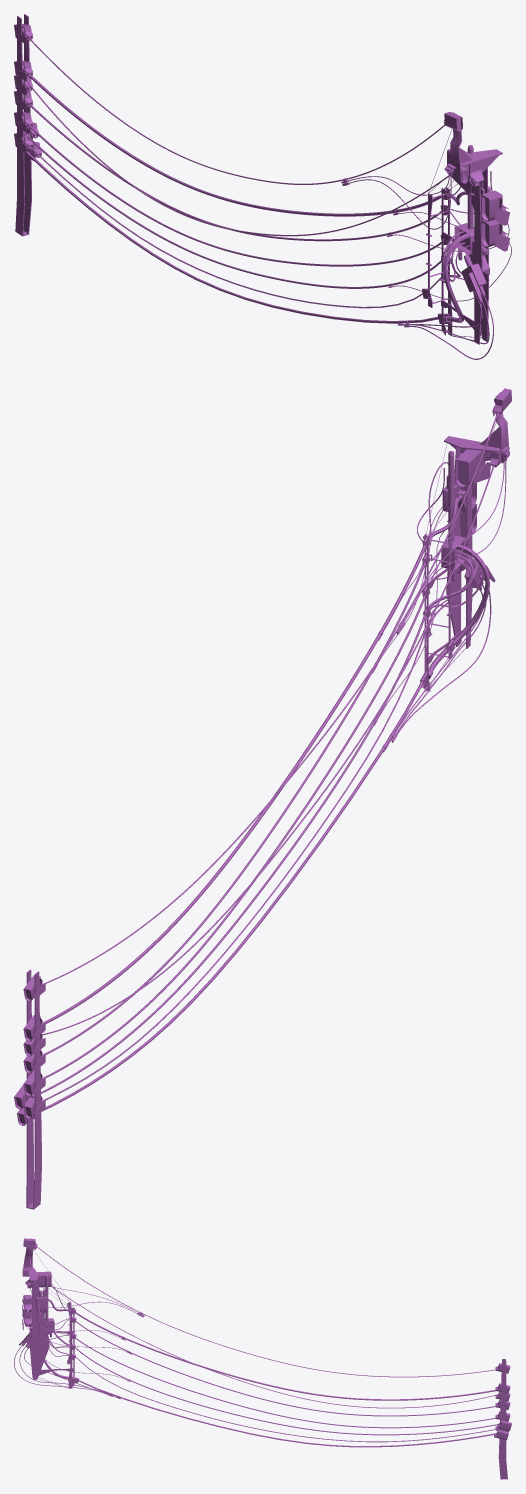
The model's file is cabble_combine.fbx.
The picture shows the model from 3 angles, top to bottom: view 1: azimuth 30°, elevation 25°; view 2: azimuth 150°, elevation 25°; view 3: azimuth 270°, elevation 25°; orthographic projection. The views are drawn at different scales.
Parts seen in each view (by area): view 1: cabble_combine:cabble_combine, cabble_combine:blank; view 2: cabble_combine:cabble_combine, cabble_combine:blank; view 3: cabble_combine:cabble_combine, cabble_combine:blank.
Part boxes in pixels (box(x1,y1,x2,y2)): cabble_combine:cabble_combine: box(14, 14, 511, 359); cabble_combine:blank: box(14, 26, 502, 359); cabble_combine:cabble_combine: box(14, 388, 511, 1209); cabble_combine:blank: box(14, 392, 500, 1097); cabble_combine:cabble_combine: box(14, 1238, 511, 1479); cabble_combine:blank: box(14, 1240, 511, 1430).
Bounding box in the file's own units: 5.41 × 30.1 × 56.83.
